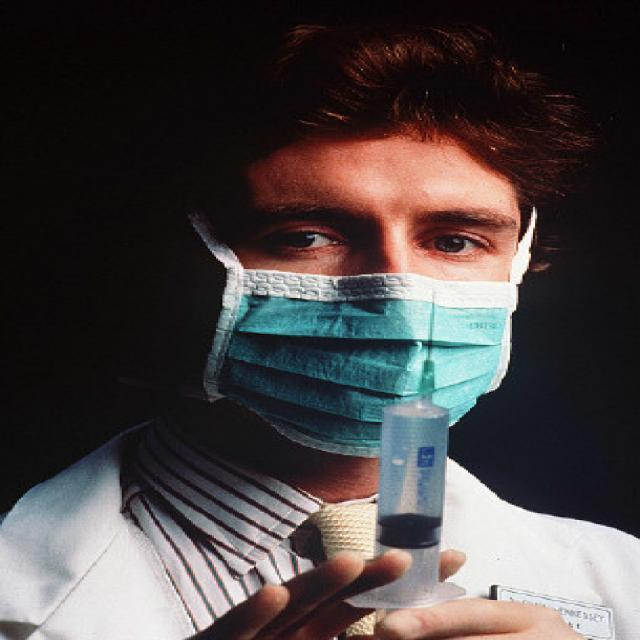mask: (220, 142, 520, 454)
